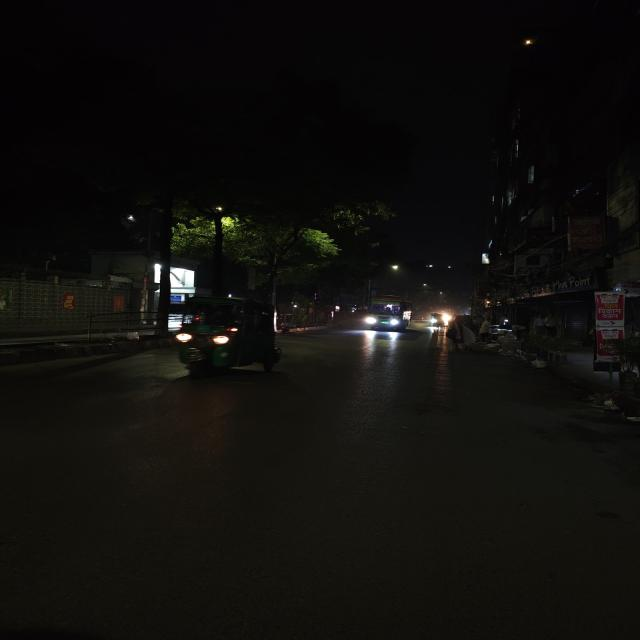bus: (360, 295, 415, 333)
cng: (161, 289, 295, 381)
pedestrian: (472, 314, 497, 349), (444, 318, 466, 351)
